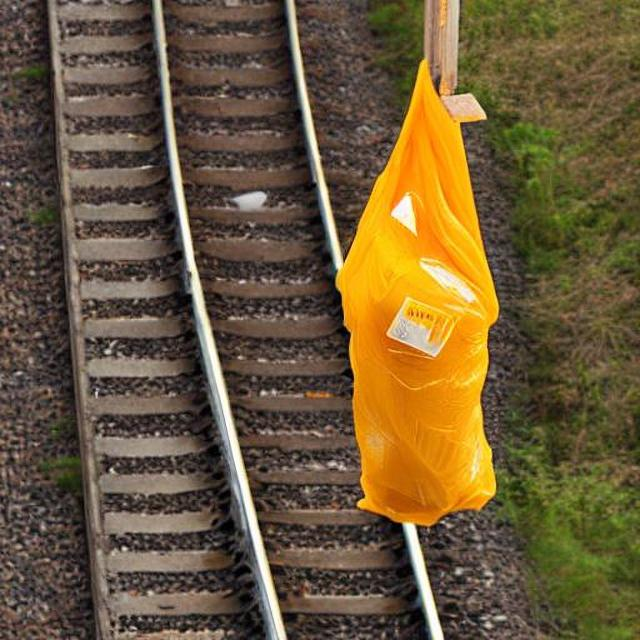plastic bag: (338, 48, 497, 518)
